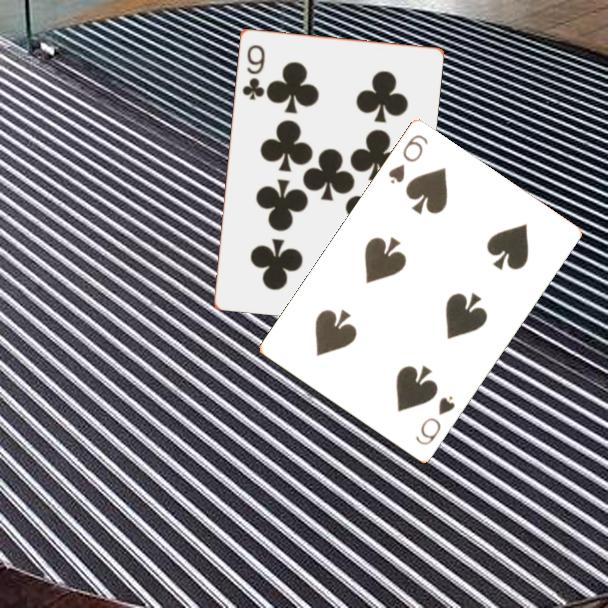c09: (238, 41, 268, 103)
s06: (412, 393, 458, 449), (385, 131, 431, 187)
